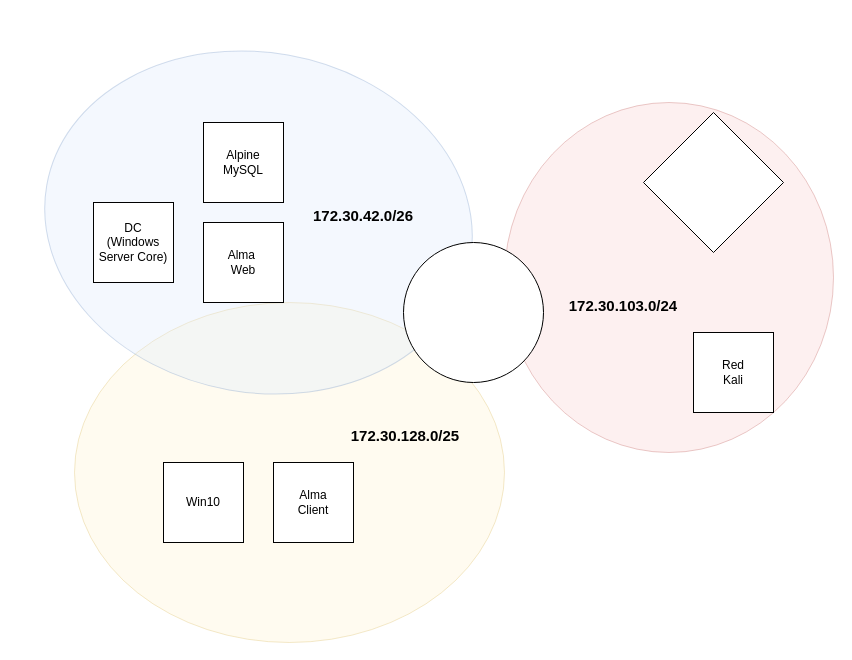
The diagram is 852 pixels wide and 660 high, and some of its shapes have lost their labels. The shapes that lost their labels are listed below. From the top down, each one's centre as x and y in pixels, then its label:
At pixel 713 182: "Host".
At pixel 473 312: "Alma Router".
